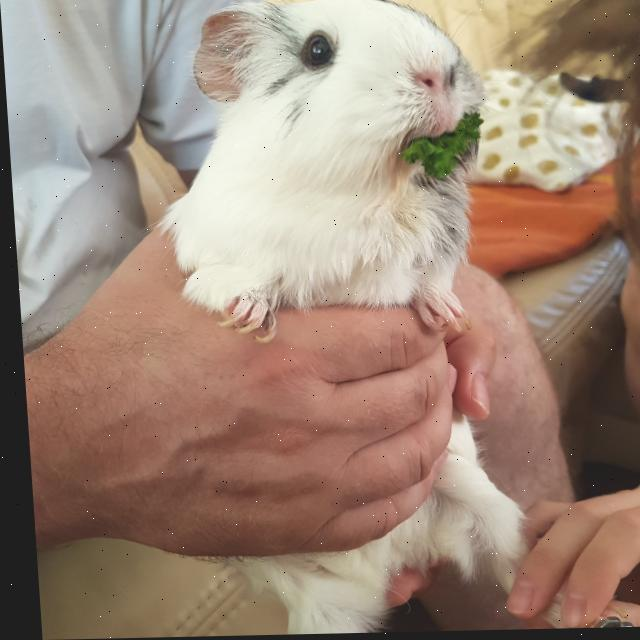guinea pig: (146, 0, 525, 637)
